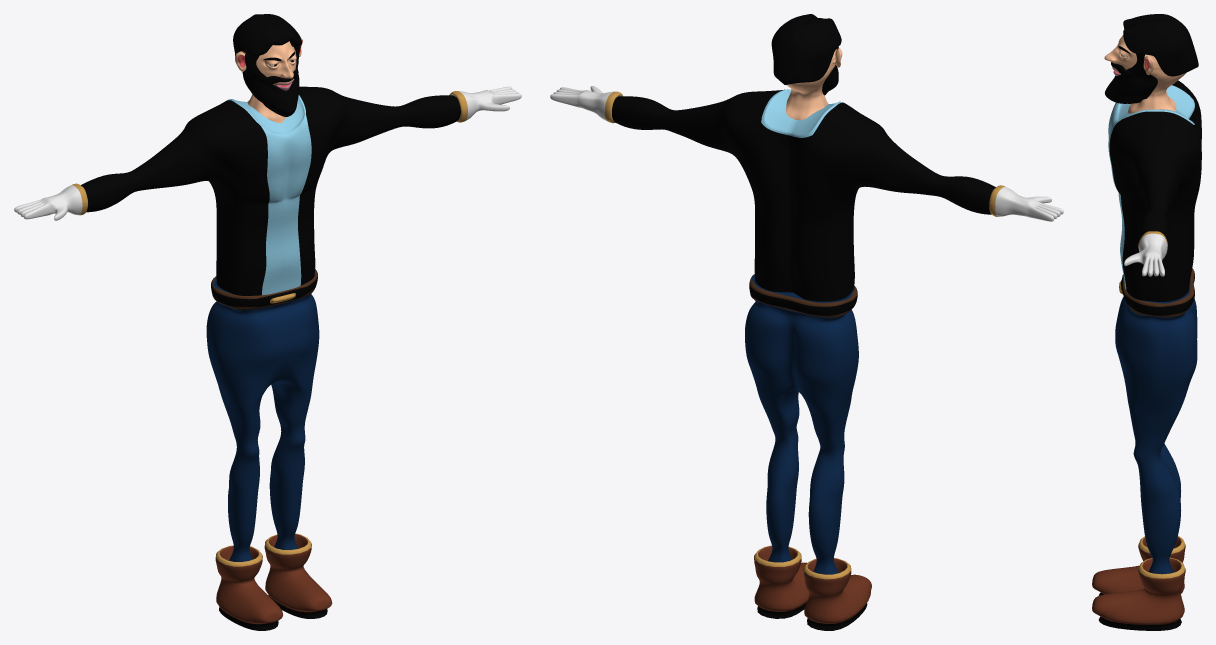
File: personaje3publicoggj.fbx
The picture shows the model from 3 angles, left to right: view 1: azimuth 30°, elevation 25°; view 2: azimuth 150°, elevation 25°; view 3: azimuth 270°, elevation 25°; orthographic projection.
Parts seen in each view (by area): view 1: Cube.002, Cube, Cube.001, Cube.003, Cube.005, Cube.006, Cube.004; view 2: Cube.002, Cube, Cube.001, Cube.005, Cube.003, Cube.004; view 3: Cube.002, Cube, Cube.001, Cube.005, Cube.004, Cube.006, Cube.003.
Part boxes in pixels (x1,y1,x2,y2): Cube.002: [81, 86, 460, 295]; Cube: [206, 268, 319, 561]; Cube.001: [215, 533, 332, 630]; Cube.003: [14, 86, 521, 220]; Cube.005: [233, 14, 301, 55]; Cube.006: [242, 45, 300, 116]; Cube.004: [235, 38, 302, 123]; Cube.002: [612, 89, 995, 301]; Cube: [745, 274, 858, 574]; Cube.001: [754, 545, 871, 630]; Cube.005: [771, 14, 841, 84]; Cube.003: [550, 86, 1063, 221]; Cube.004: [786, 48, 842, 120]; Cube.002: [1108, 80, 1201, 301]; Cube: [1115, 268, 1197, 574]; Cube.001: [1092, 536, 1185, 630]; Cube.005: [1123, 14, 1198, 76]; Cube.004: [1104, 35, 1186, 113]; Cube.006: [1105, 54, 1157, 103]; Cube.003: [1124, 231, 1167, 276].
Bounding box in the file's own units: 1272 × 1434 × 241.
